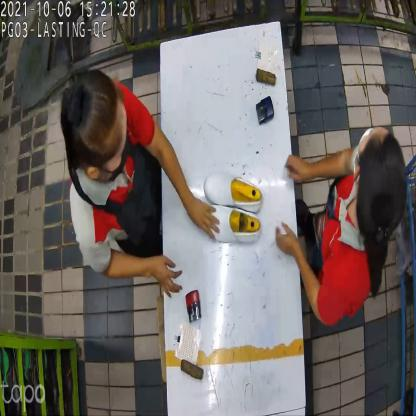shoes: (202, 172, 267, 245)
stamp: (184, 292, 203, 326), (256, 95, 274, 128)
